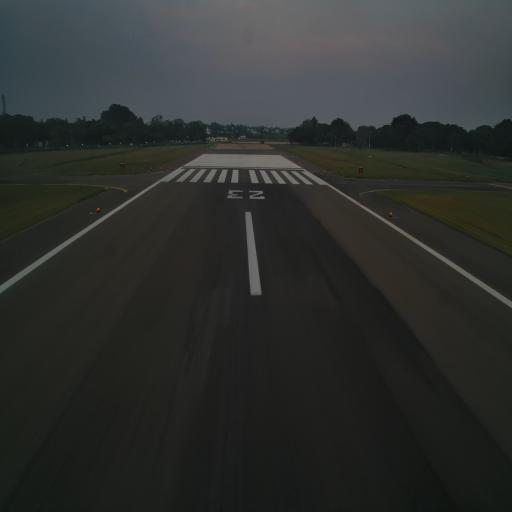on: (388, 209, 394, 219), (95, 204, 101, 214)
